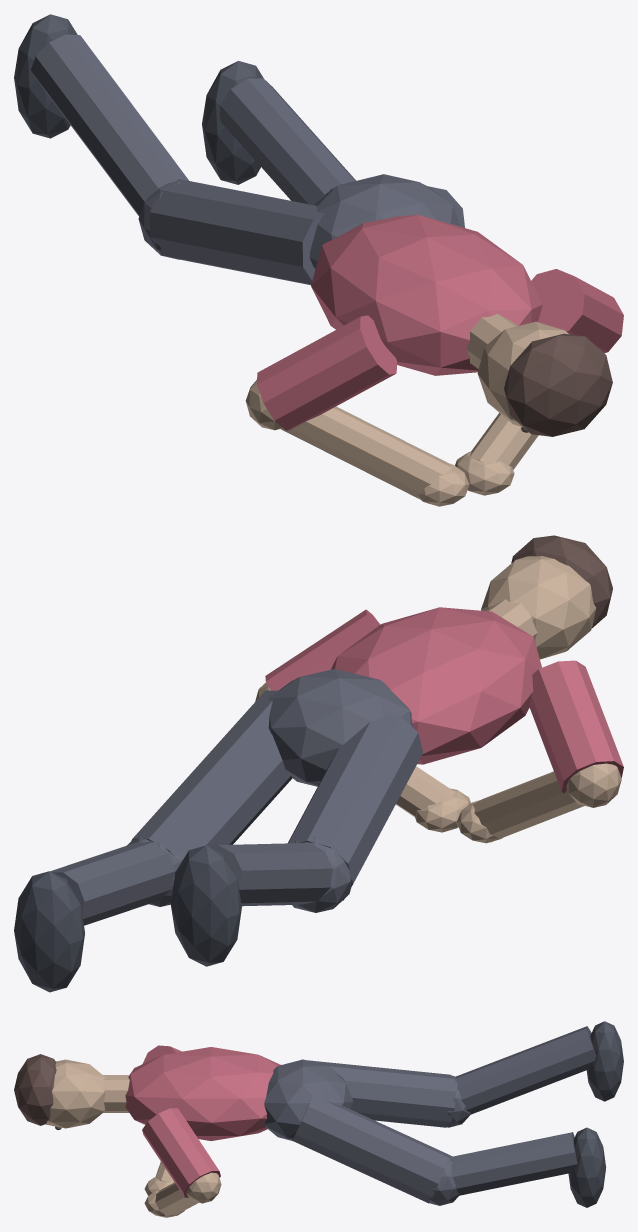
The picture shows the model from 3 angles, top to bottom: view 1: azimuth 30°, elevation 25°; view 2: azimuth 150°, elevation 25°; view 3: azimuth 270°, elevation 25°; orthographic projection. The views are drawn at different scales.
Parts seen in each view (by area): view 1: world; view 2: world; view 3: world.
Part boxes in pixels (x1,y1,x2,y2): world: [14, 14, 623, 506]; world: [14, 535, 623, 992]; world: [14, 1021, 623, 1217].
Bounding box in the file's own units: 0.93 × 0.6103 × 2.06.
